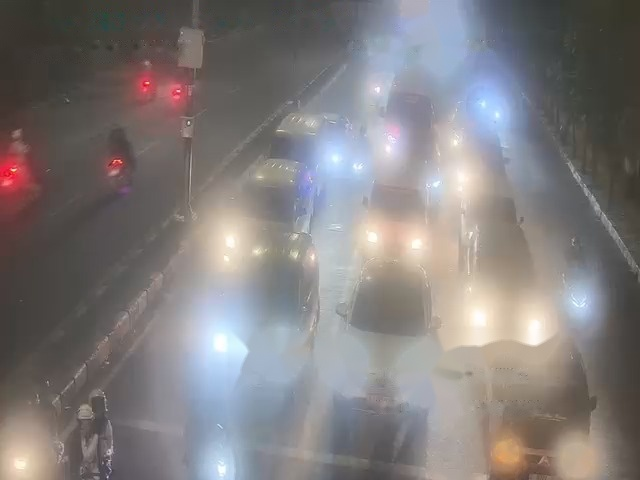Bis: (384, 59, 436, 151)
Mobil: (217, 228, 318, 377), (471, 337, 577, 478), (347, 254, 428, 418), (213, 153, 306, 249), (456, 231, 537, 328), (366, 159, 430, 261), (448, 174, 526, 238), (272, 106, 334, 184), (446, 126, 507, 174)
Motor: (17, 393, 58, 479), (69, 401, 112, 477), (555, 240, 594, 320), (189, 405, 229, 477), (3, 126, 32, 203), (96, 122, 129, 187), (139, 52, 160, 99), (350, 131, 368, 182), (172, 71, 182, 108)
